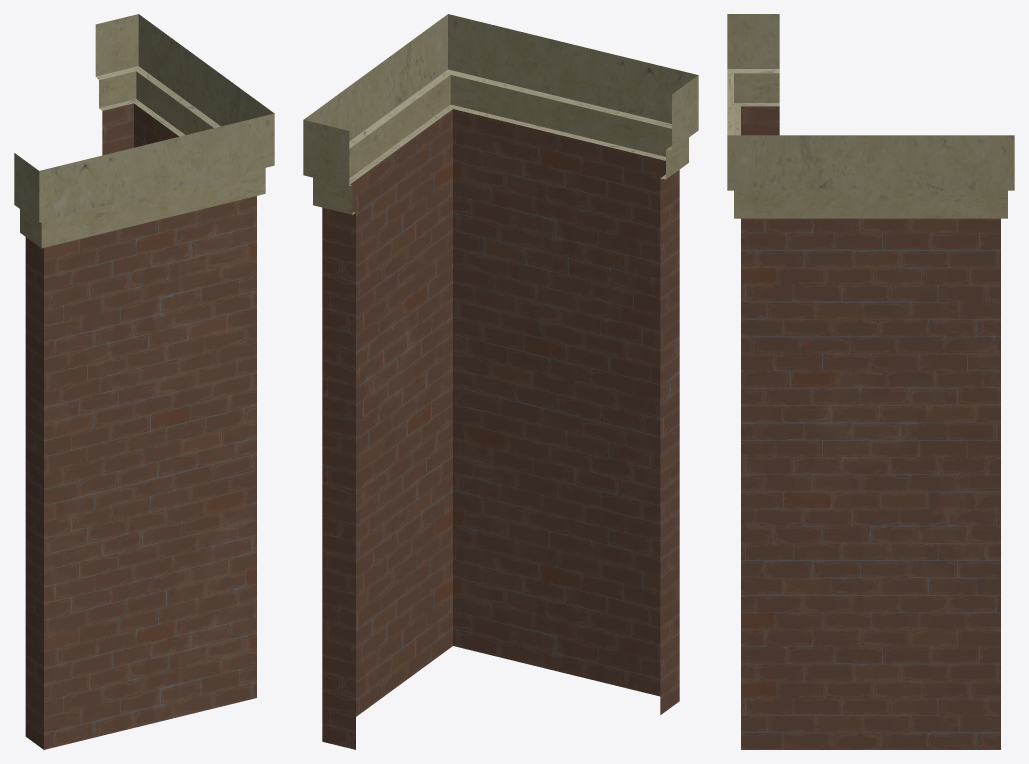
The model's file is Brick_CornerColumn_Top.gltf.
3 renders of one model, left to right at view 1: azimuth 30°, elevation 25°; view 2: azimuth 150°, elevation 25°; view 3: azimuth 270°, elevation 25°, orthographic. The views are drawn at different scales.
Parts seen in each view (by area): view 1: Brick_CornerColumn_Top; view 2: Brick_CornerColumn_Top; view 3: Brick_CornerColumn_Top.
Part boxes in pixels (x1,y1,x2,y2): Brick_CornerColumn_Top: (14,14,274,749); Brick_CornerColumn_Top: (303,14,698,749); Brick_CornerColumn_Top: (727,14,1014,749).
Bounding box in the file's own units: 1.26 × 3 × 1.26.
Materials: 2 (2 with a texture image).
